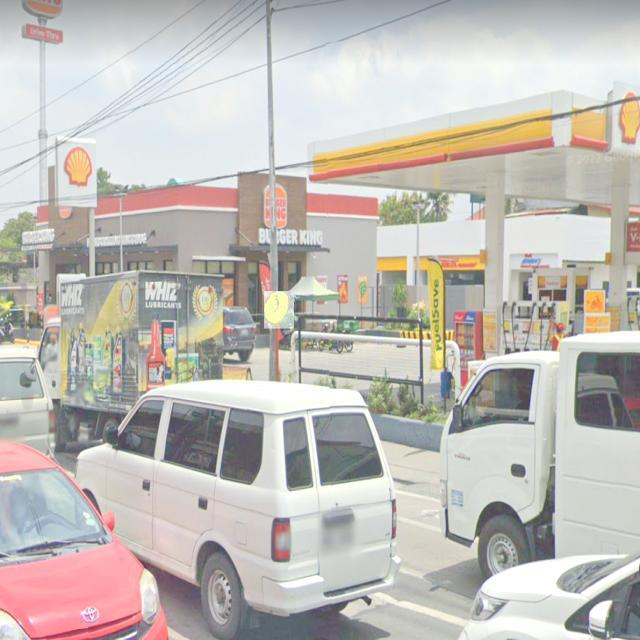bike lane: (264, 292, 294, 330)
